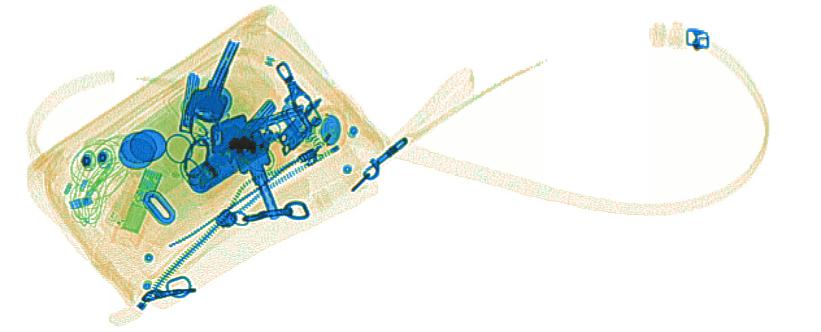USBFlashDisk: (119, 165, 164, 234)
